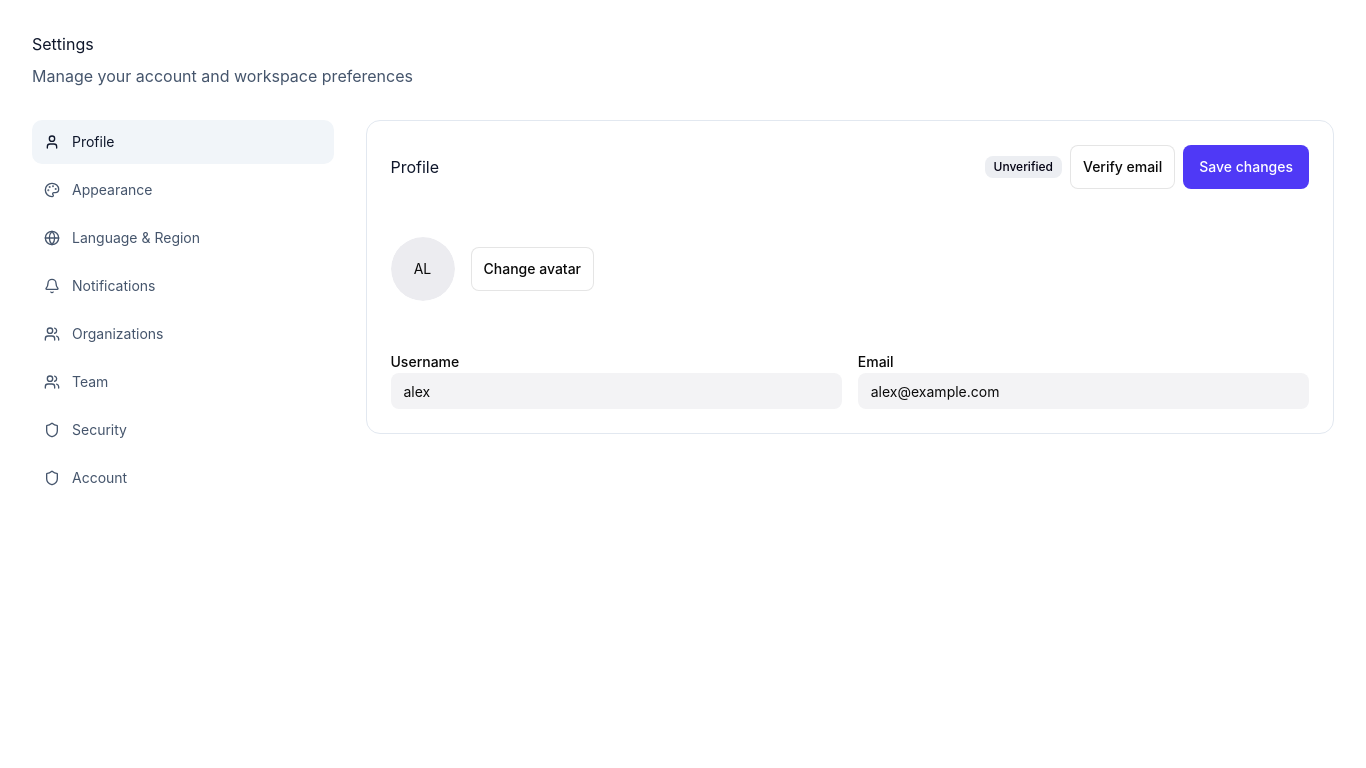
Test: SettingsScreen › renders header and navigates to Notifications section
The image size is (1366, 768).
Expected: the heading "Settings" is shown, [32,34,94,54]
# Navigate to Notifications via button role
Step 1. Click the button "Notifications" → (114, 286), box [32,264,334,308]
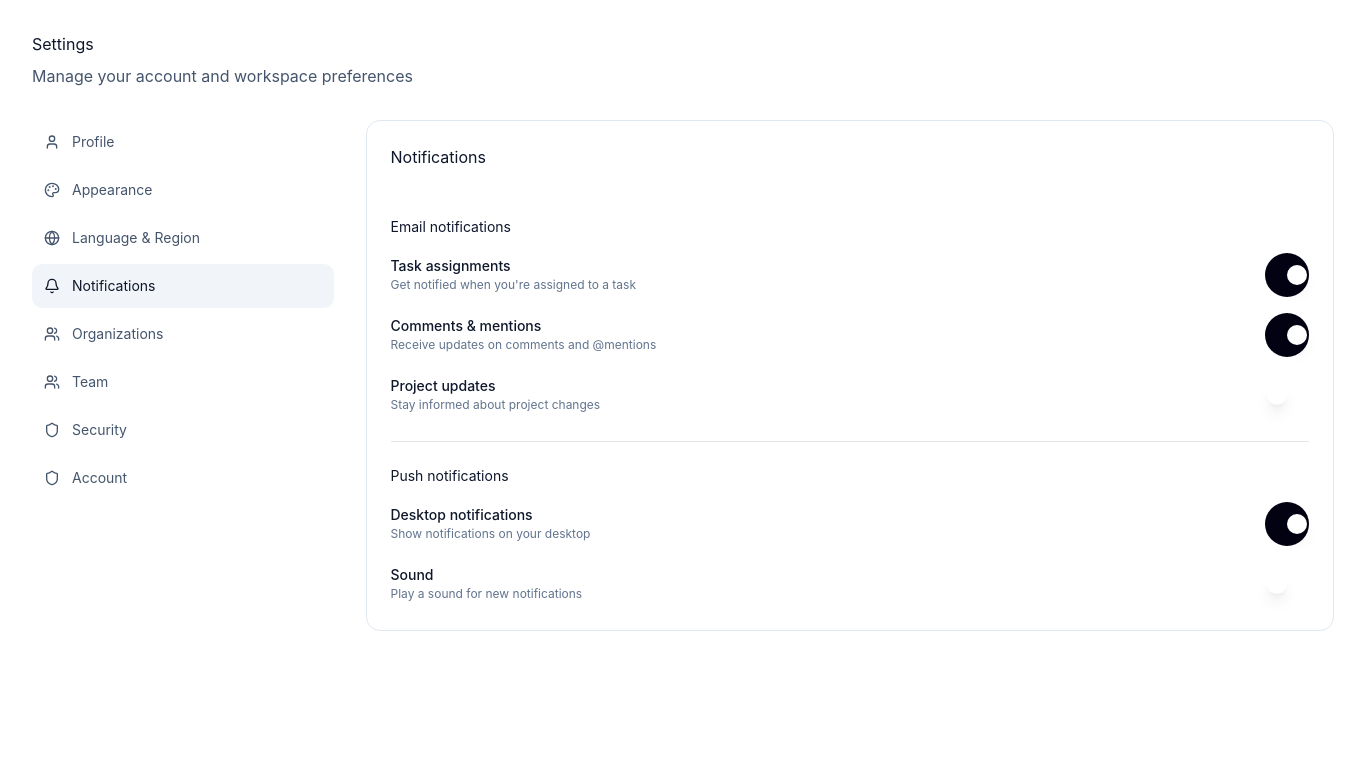
Expected: the heading "Email notifications" is shown, [390,218,511,235]
